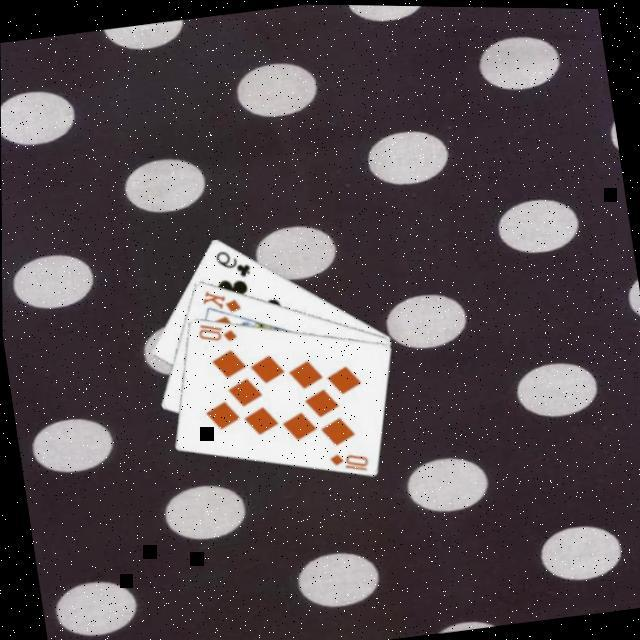10D: (191, 316, 237, 349), (324, 446, 370, 479)
9C: (210, 244, 252, 283)
KD: (195, 283, 242, 320)
